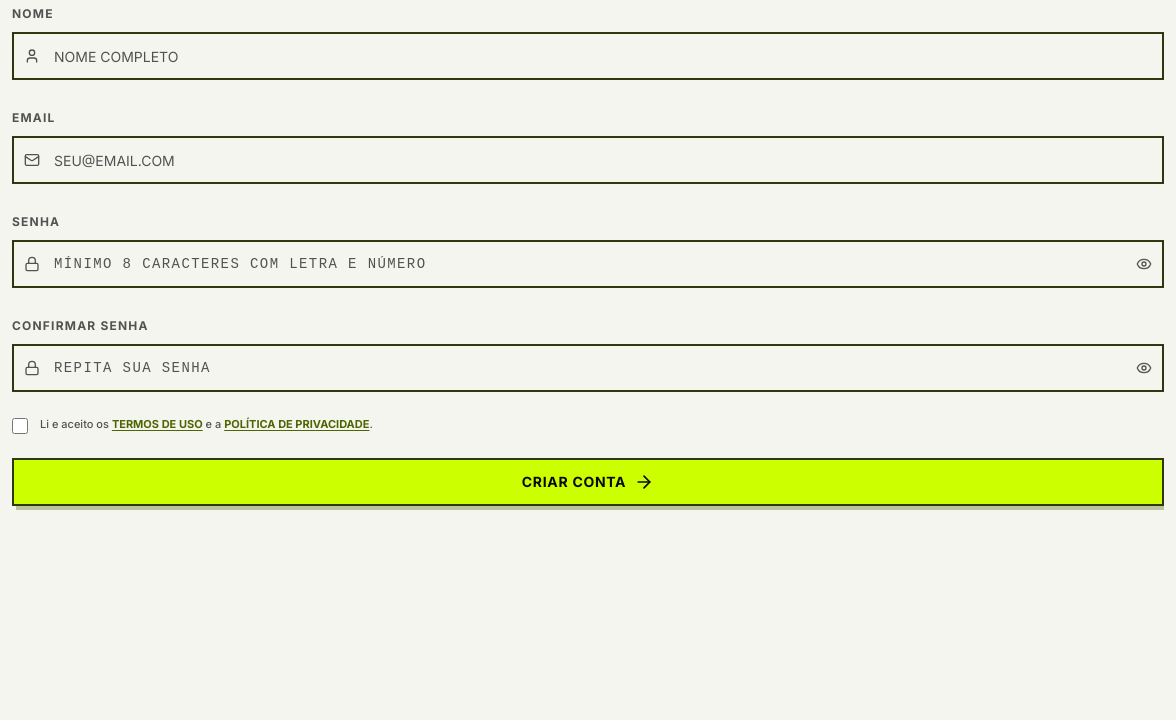
RegisterForm › deve exigir o aceite dos termos de uso (BL-11 / LGPD)
Type "Test" into the field labelled "Nome". click: [588, 56]
box: [12,32,1164,80]
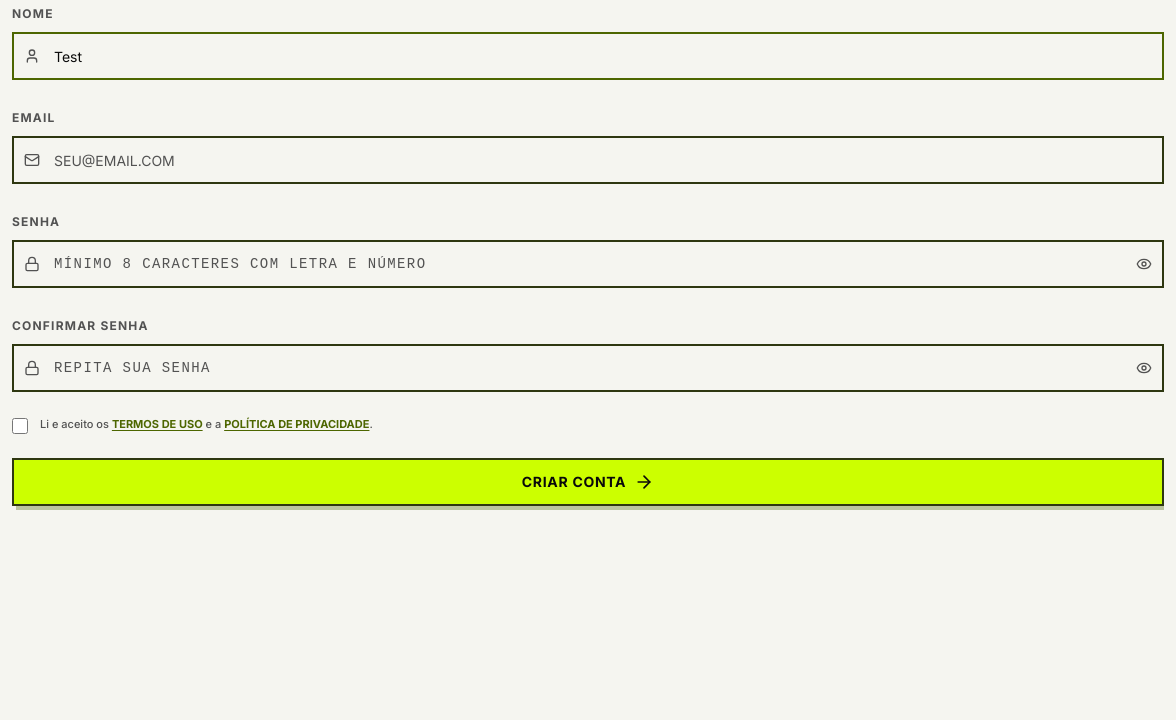
Type "novo@example.com" into the field labelled "Email". click: [588, 160]
box: [12,136,1164,184]
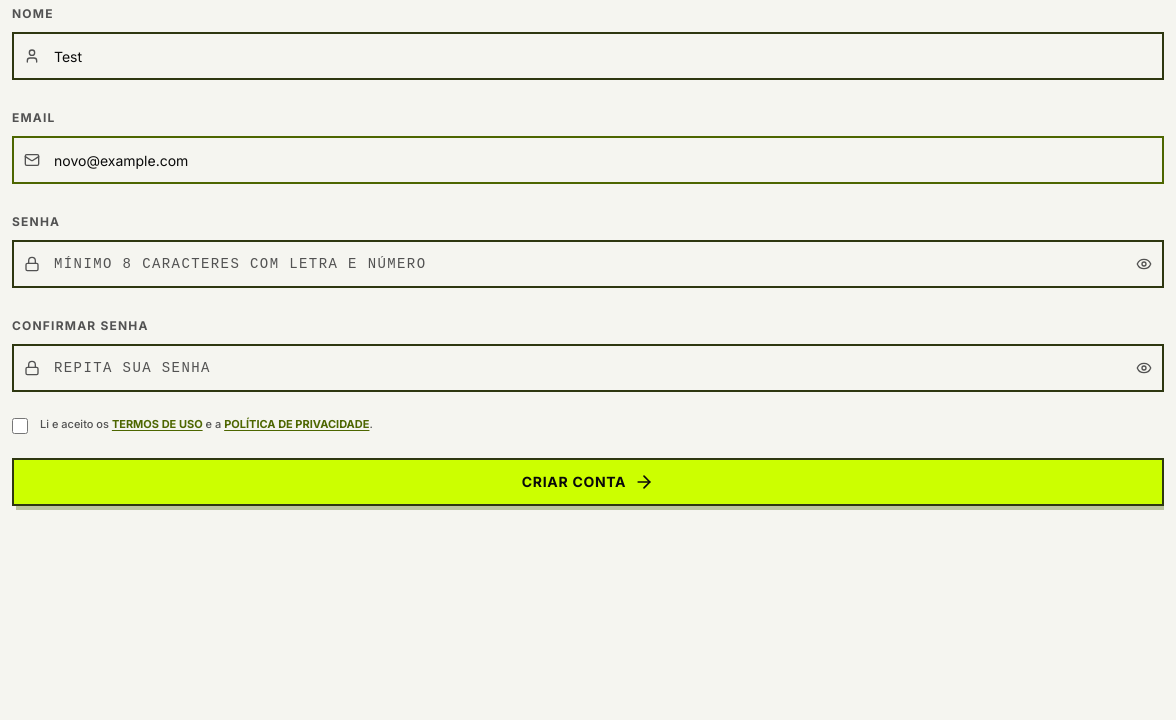
Type "senhaSegura123" into the password field labelled "Senha". click: [588, 264]
box: [12,240,1164,288]
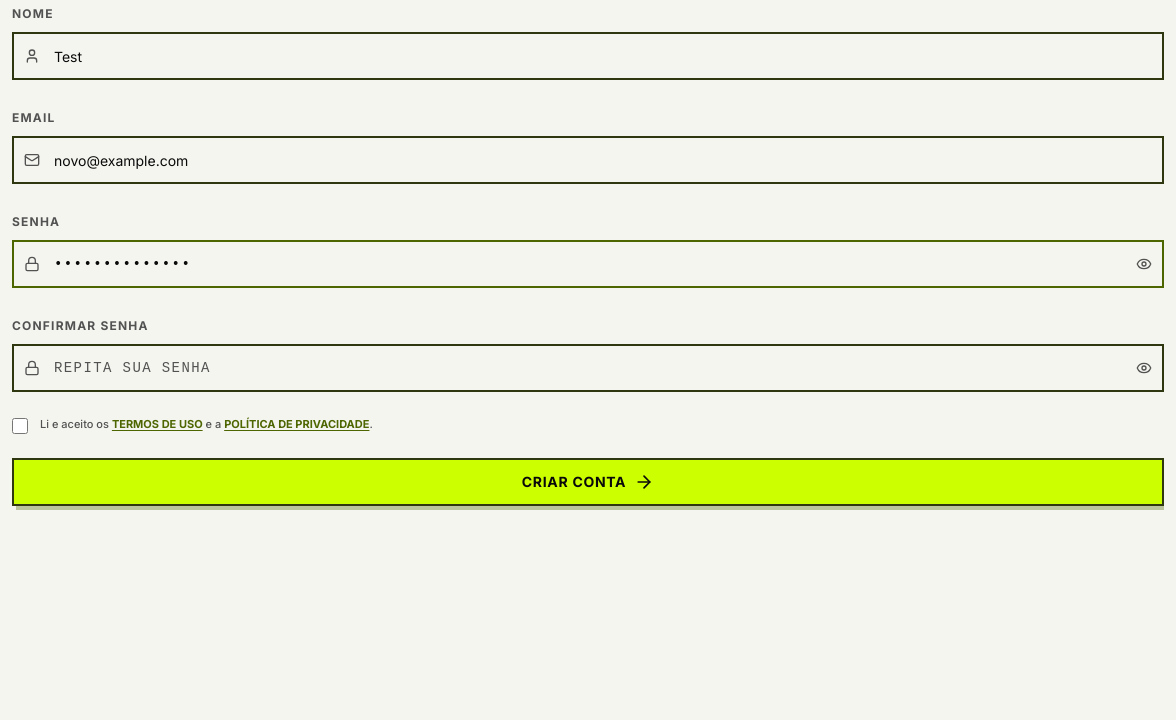
Type "senhaSegura123" into the password field labelled "Confirmar senha". click: [588, 368]
box: [12,344,1164,392]
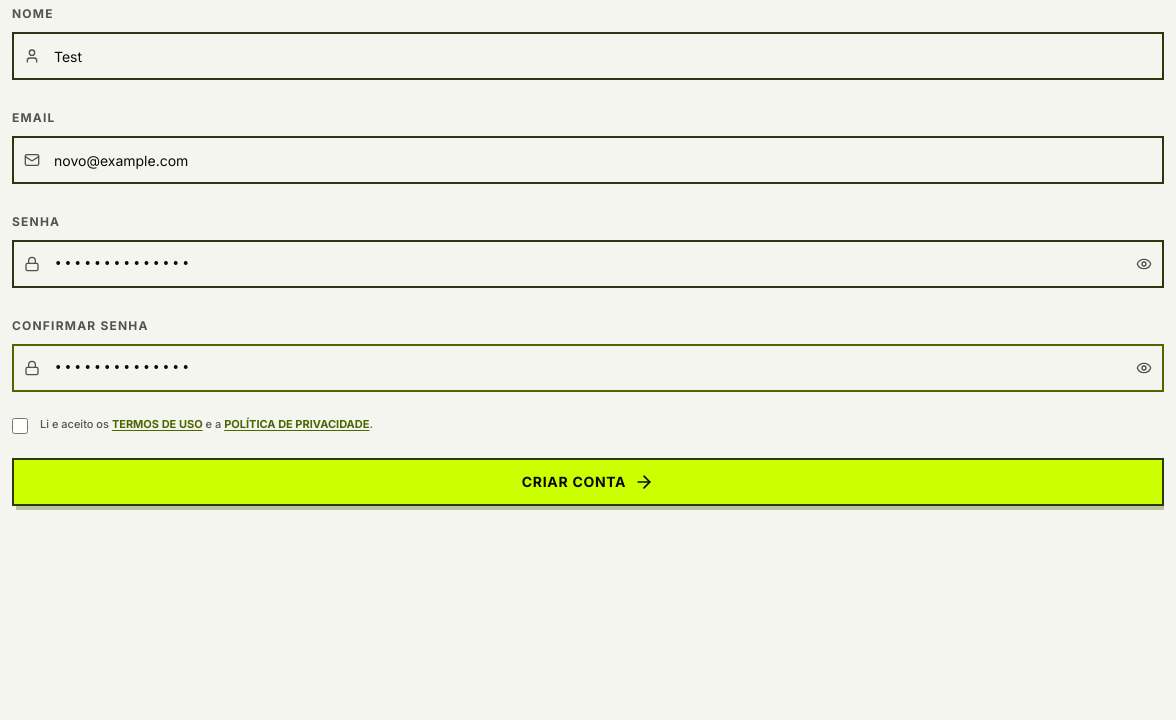
Click the button "Criar Conta". click: [588, 482]
box: [12,458,1164,506]
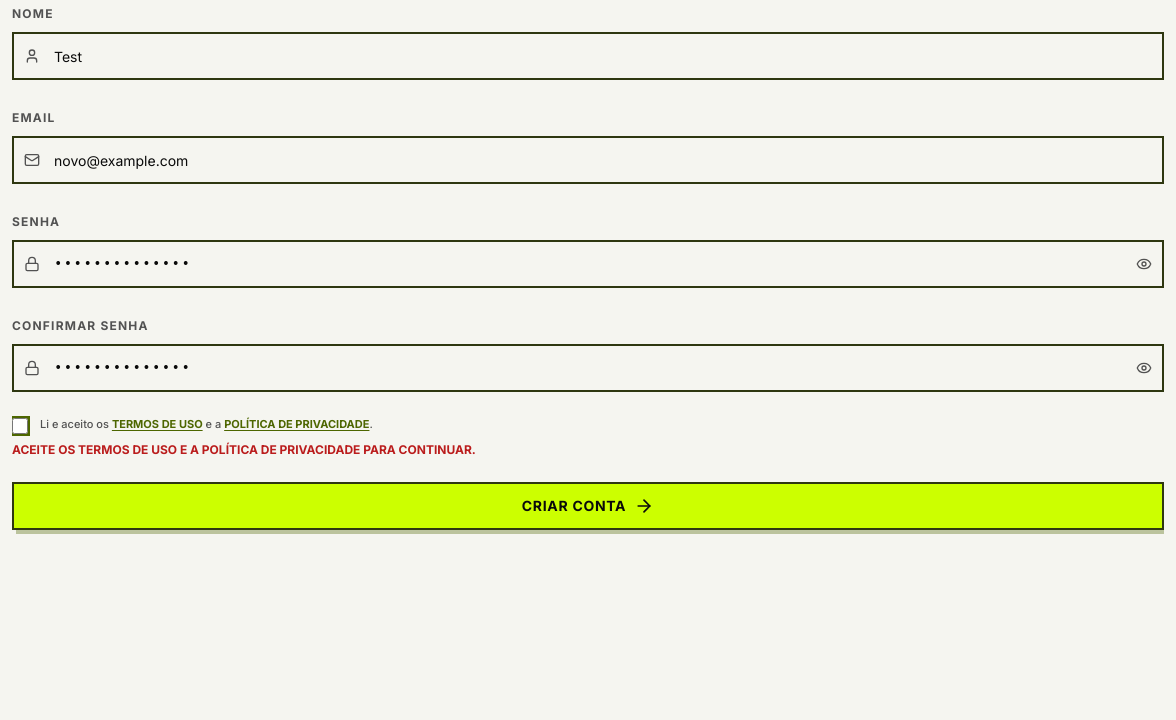
expect the text "Aceite os Termos de Uso" is shown: met, box [12,442,476,457]
